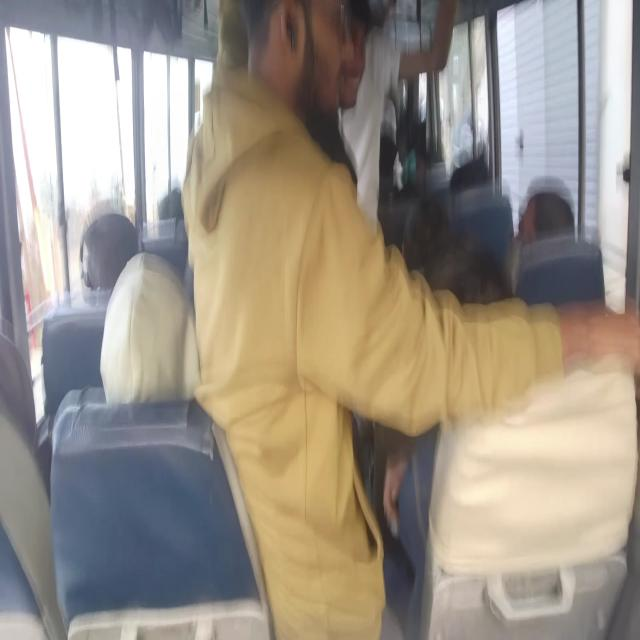person: (100, 252, 198, 405), (258, 0, 335, 179), (398, 196, 508, 311), (515, 238, 607, 310), (0, 326, 35, 448), (81, 216, 136, 289), (521, 176, 577, 221), (157, 190, 184, 222), (78, 228, 88, 285)
